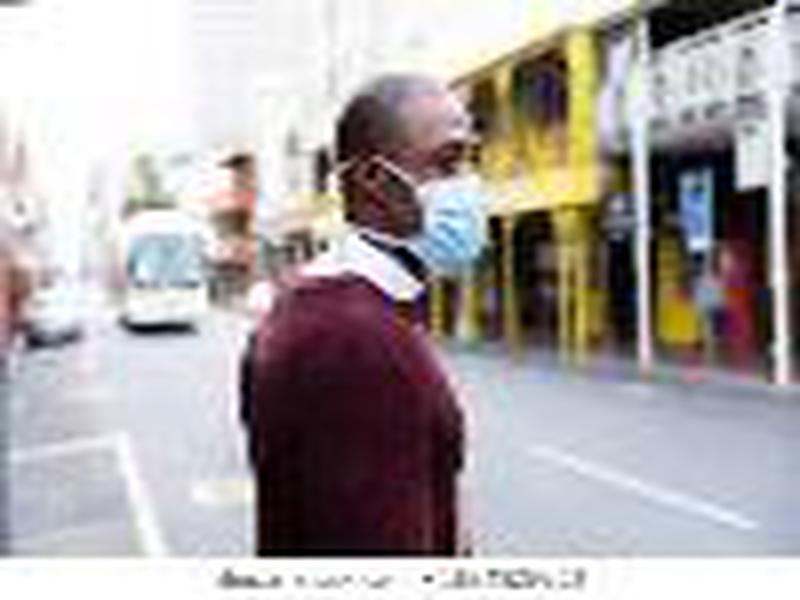with_mask: (335, 70, 490, 277)
